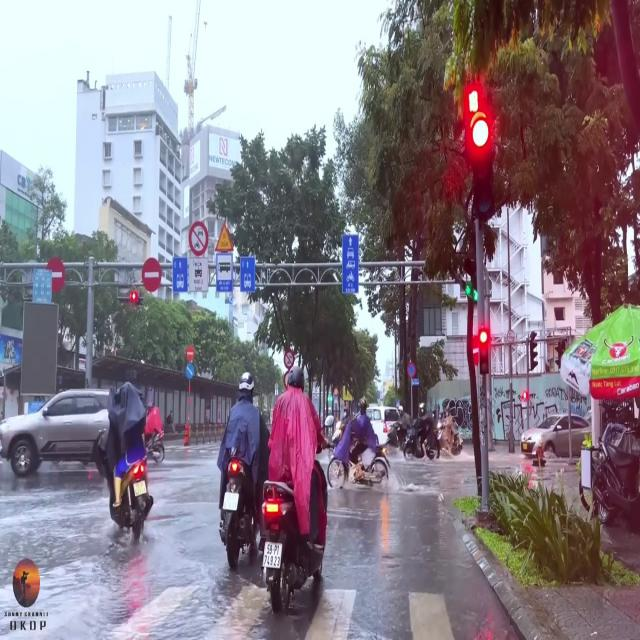bien_trang: (262, 538, 282, 569)
